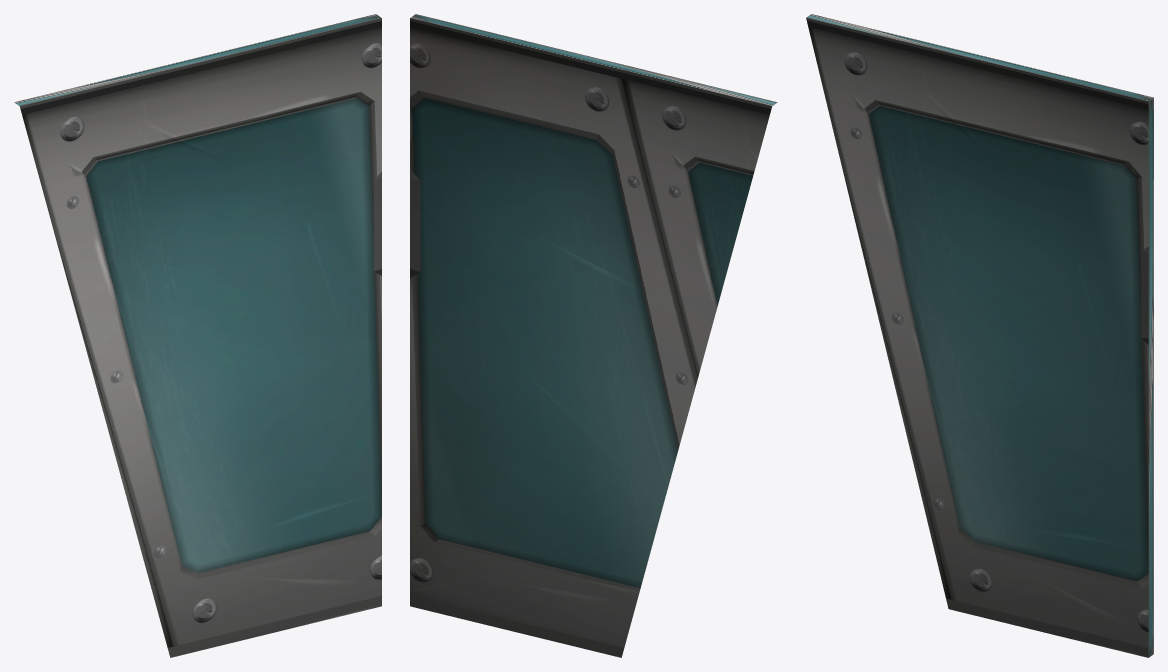
The model's file is door panel l.glb.
3 renders of one model, left to right at view 1: azimuth 30°, elevation 25°; view 2: azimuth 150°, elevation 25°; view 3: azimuth 330°, elevation 25°, orthographic. The views are drawn at different scales.
Visible parts, largest first — view 1: Object001; view 2: Object001; view 3: Object001.
Part boxes in pixels (bbox=[...]): Object001: bbox=[14, 14, 381, 657]; Object001: bbox=[410, 14, 777, 657]; Object001: bbox=[806, 14, 1153, 657].
Bounding box in the file's own units: 1.77 × 2.75 × 0.0475.
Materials: 1 (1 with a texture image).
